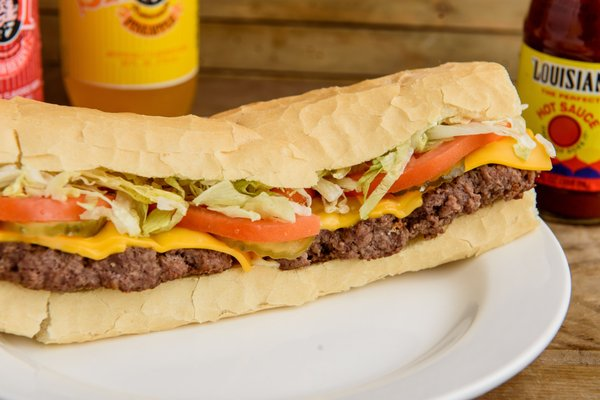soup: (0, 59, 569, 342)
